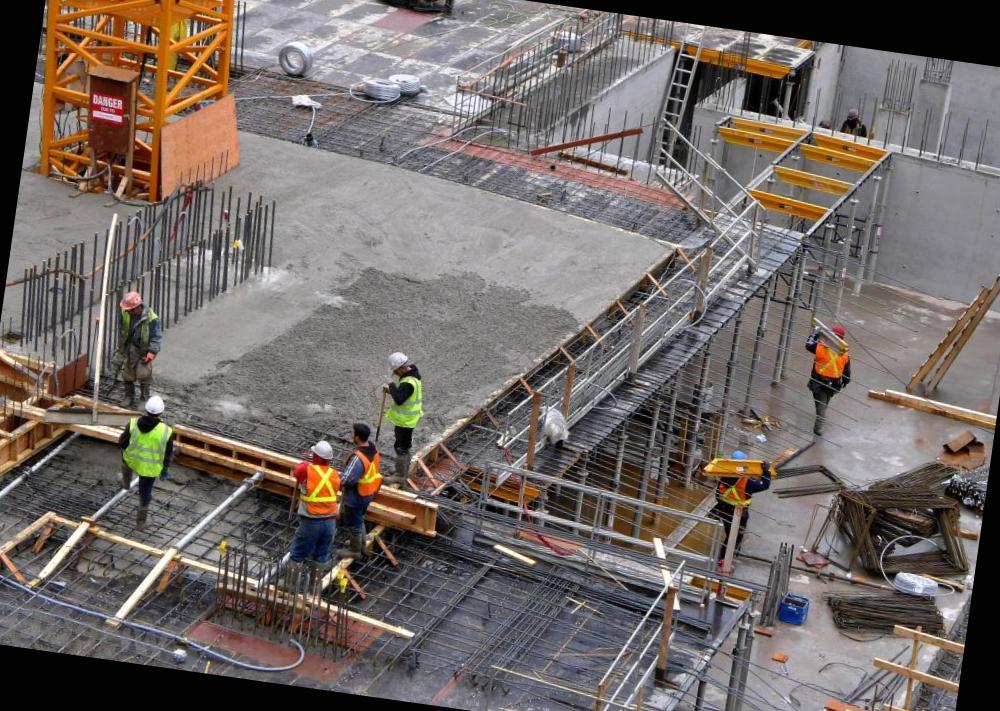person: (101, 386, 186, 528), (278, 429, 352, 572), (784, 312, 862, 446), (365, 339, 431, 490), (323, 414, 385, 564), (103, 276, 165, 416)
